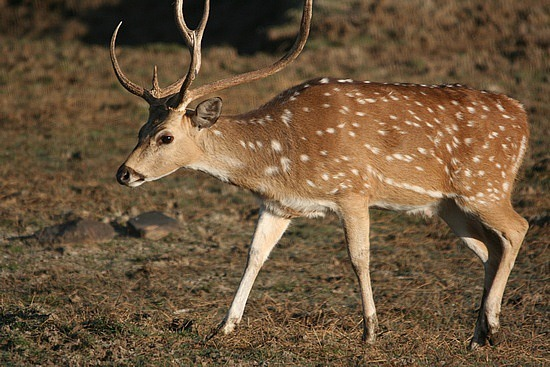Deer: (108, 3, 529, 354)
